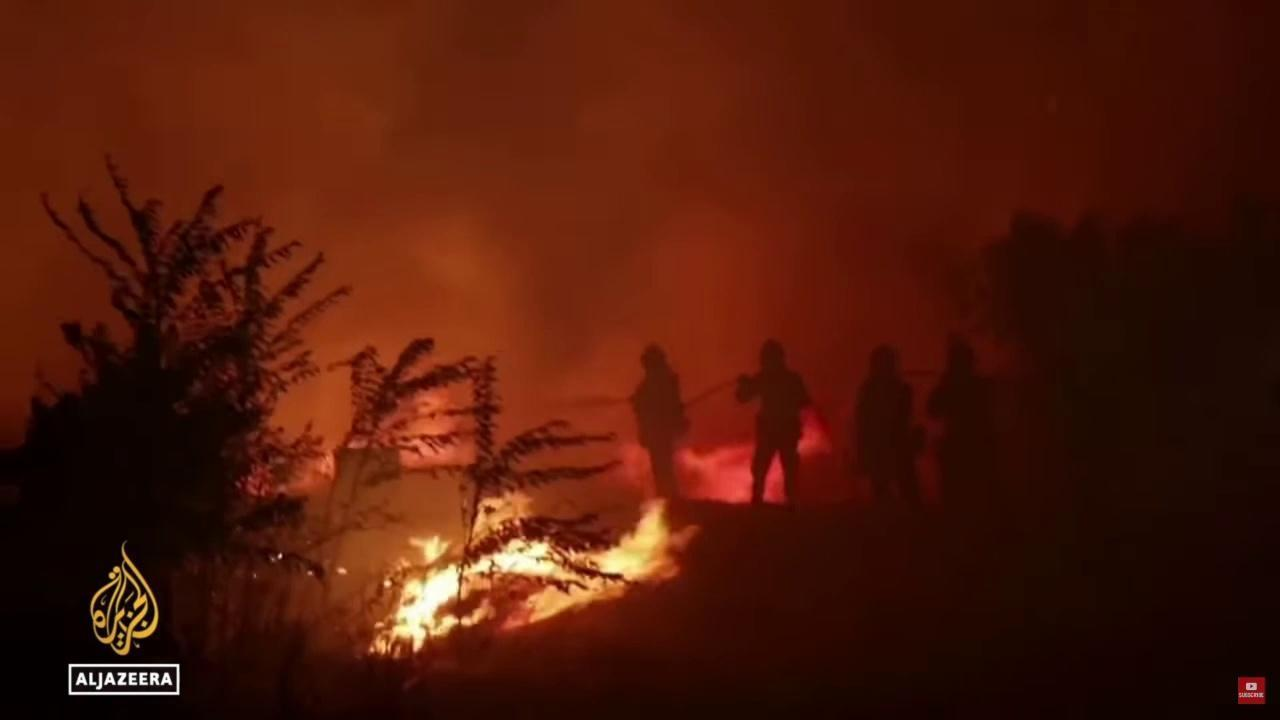fire: (354, 492, 706, 659), (612, 414, 838, 510), (381, 359, 479, 467), (234, 445, 339, 501), (336, 566, 348, 578)
smoke: (0, 0, 1280, 682)
